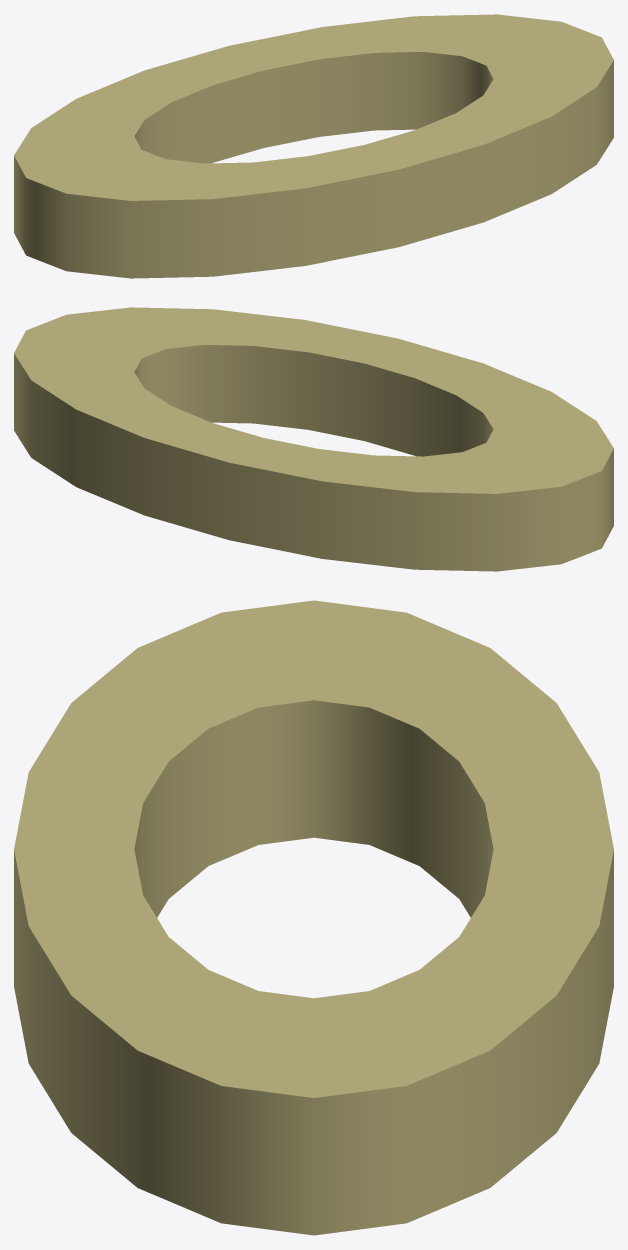
File: Zero.fbx
3 views of the same model, one above another, from view 1: azimuth 30°, elevation 25°; view 2: azimuth 150°, elevation 25°; view 3: azimuth 270°, elevation 25° (orthographic). The views are drawn at different scales.
Parts seen in each view (by area): view 1: pPipe4; view 2: pPipe4; view 3: pPipe4.
Boxes of the visible parts, x1,y1,x2,y2 form: pPipe4: [14, 14, 613, 278]; pPipe4: [14, 307, 613, 571]; pPipe4: [14, 600, 613, 1235].
Bounding box in the file's own units: 7.83 × 1.01 × 3.99.
